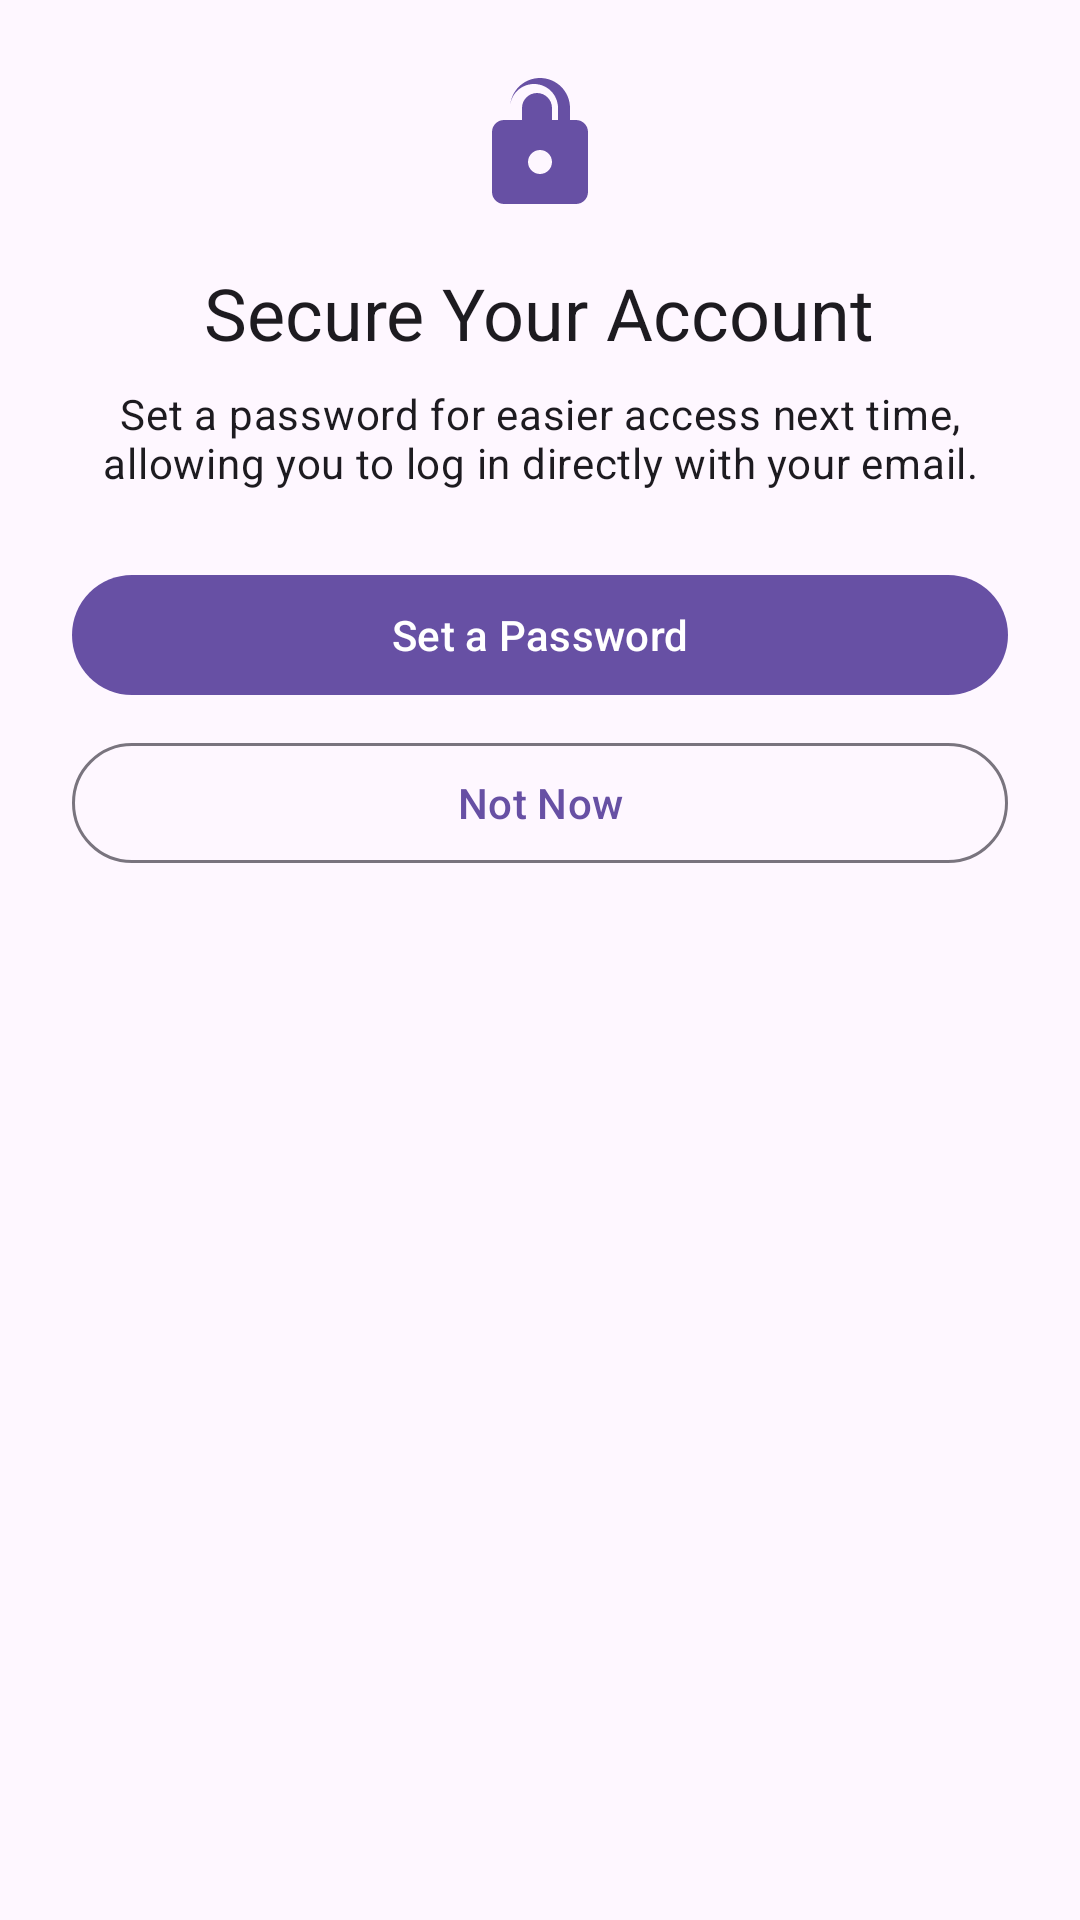

Icons on this 1080x1920 Android screen, each with its box as (x1, y1, x2, y2):
lock: (492, 78, 588, 204)
